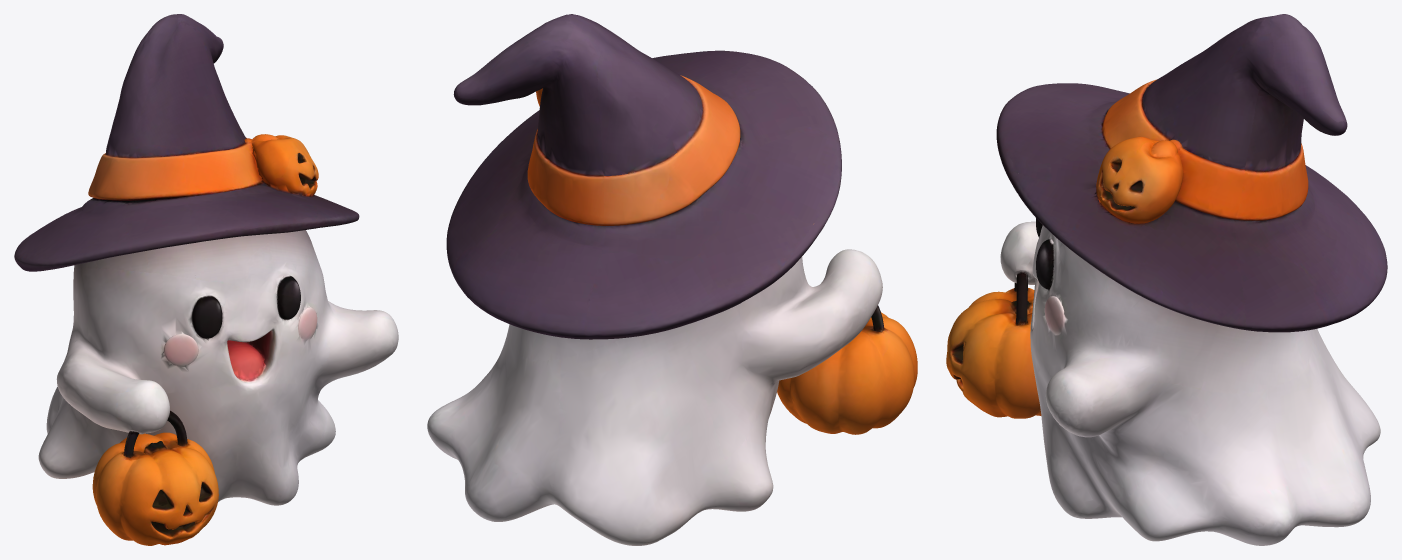
The model's file is witch.glb.
3 renders of one model, left to right at view 1: azimuth 30°, elevation 25°; view 2: azimuth 150°, elevation 25°; view 3: azimuth 270°, elevation 25°, orthographic. The views are drawn at different scales.
Parts seen in each view (by area): view 1: tripo_node_8623aaa0-f4f1-4951-9b0c-dad8209bb70c; view 2: tripo_node_8623aaa0-f4f1-4951-9b0c-dad8209bb70c; view 3: tripo_node_8623aaa0-f4f1-4951-9b0c-dad8209bb70c.
Boxes of the visible parts, left/top/right/bottom form: tripo_node_8623aaa0-f4f1-4951-9b0c-dad8209bb70c: left=14, top=14, right=398, bottom=545; tripo_node_8623aaa0-f4f1-4951-9b0c-dad8209bb70c: left=427, top=14, right=917, bottom=545; tripo_node_8623aaa0-f4f1-4951-9b0c-dad8209bb70c: left=946, top=14, right=1387, bottom=545.
Size of the model in its own units: 0.7666 by 0.9808 by 0.7985.
1 material, 1 textured.
